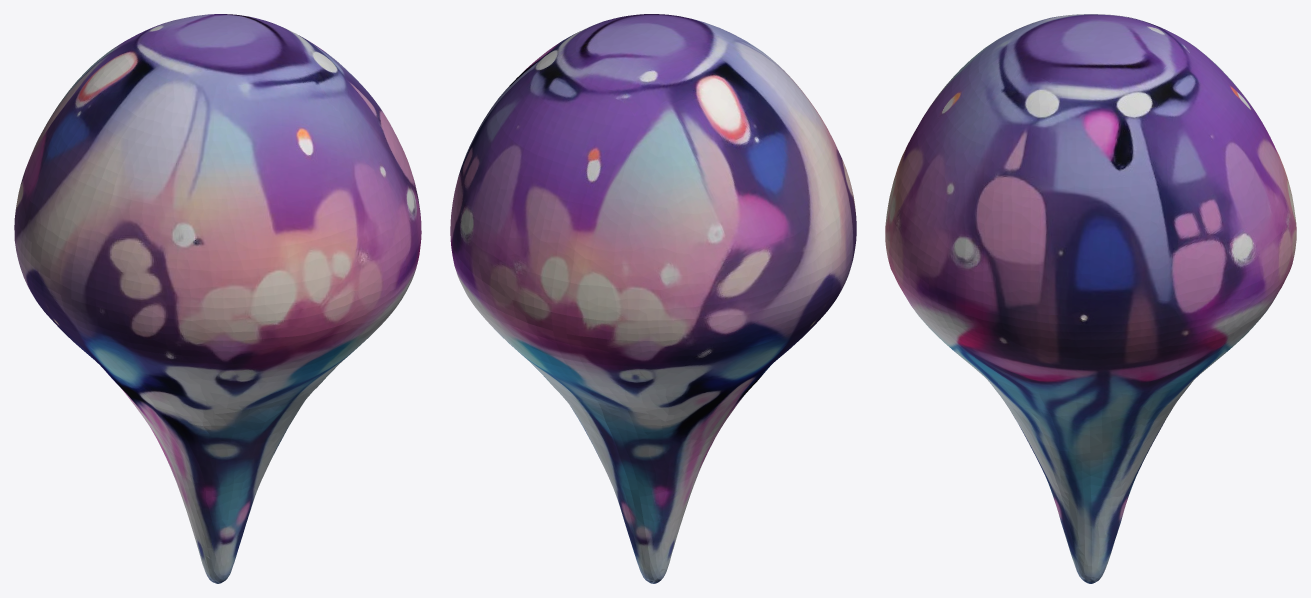
File: pet_pk_slowbro.glb
3 views of the same model, side by side, from view 1: azimuth 30°, elevation 25°; view 2: azimuth 150°, elevation 25°; view 3: azimuth 270°, elevation 25° (orthographic).
Visible parts, largest first — view 1: geometry_0; view 2: geometry_0; view 3: geometry_0.
Boxes of the visible parts, x1,y1,x2,y2 form: geometry_0: [14, 14, 421, 583]; geometry_0: [450, 14, 856, 583]; geometry_0: [885, 14, 1296, 583].
Size of the model in its own units: 0.478 by 0.7 by 0.4753.
1 material, 1 textured.
